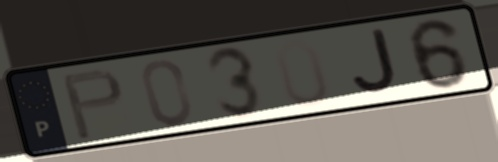0: (272, 37, 333, 109), (137, 56, 196, 130)
3: (203, 42, 266, 124)
6: (405, 15, 474, 91)
J: (349, 26, 403, 98)
P: (57, 65, 127, 143)
